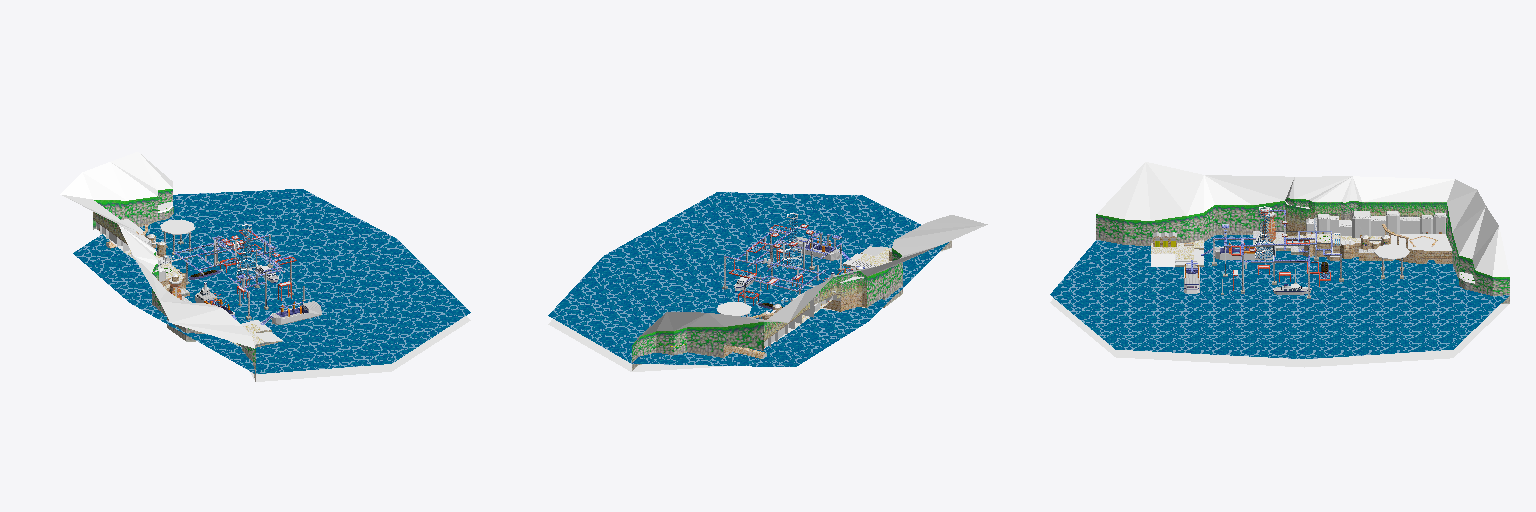
The picture shows the model from 3 angles: view 1: azimuth 30°, elevation 25°; view 2: azimuth 150°, elevation 25°; view 3: azimuth 270°, elevation 25°; orthographic projection.
Visible parts, largest first — view 1: Mesh_Mesh.001_Boat_3; view 2: Mesh_Mesh.001_Boat_3; view 3: Mesh_Mesh.001_Boat_3.
Boxes of the visible parts, box(x1,y1,x2,y2) form: Mesh_Mesh.001_Boat_3: box(60, 152, 470, 381); Mesh_Mesh.001_Boat_3: box(548, 192, 987, 371); Mesh_Mesh.001_Boat_3: box(1050, 162, 1509, 367).
Size of the model in its own units: 9.96 by 2.42 by 12.98.
Materials: 37 (27 with a texture image).